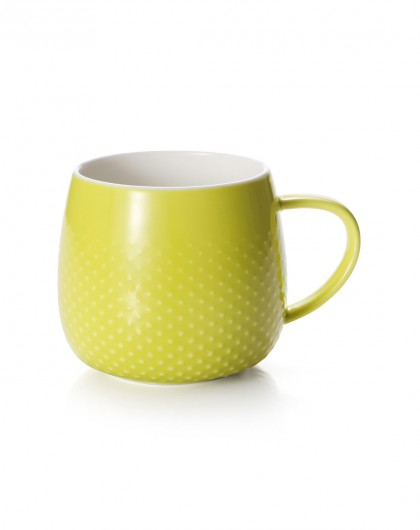cup: (56, 148, 362, 387)
